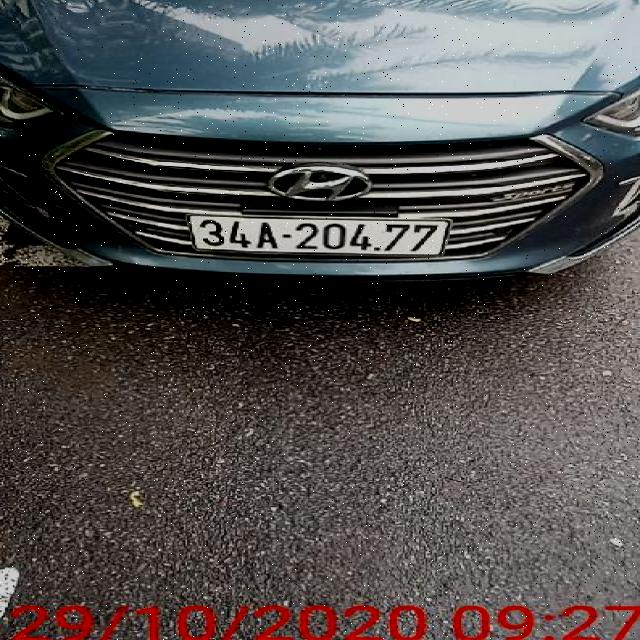0: (322, 221, 346, 250)
2: (292, 222, 320, 251)
3: (198, 218, 224, 247)
4: (228, 219, 253, 250), (348, 222, 370, 252)
7: (409, 223, 441, 254), (382, 220, 409, 252)
A: (256, 220, 280, 250)
